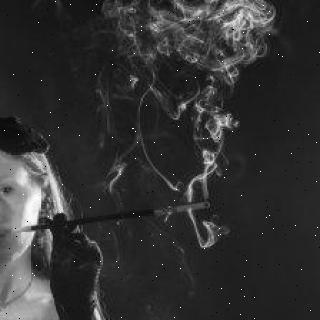smoke: (142, 0, 272, 219)
